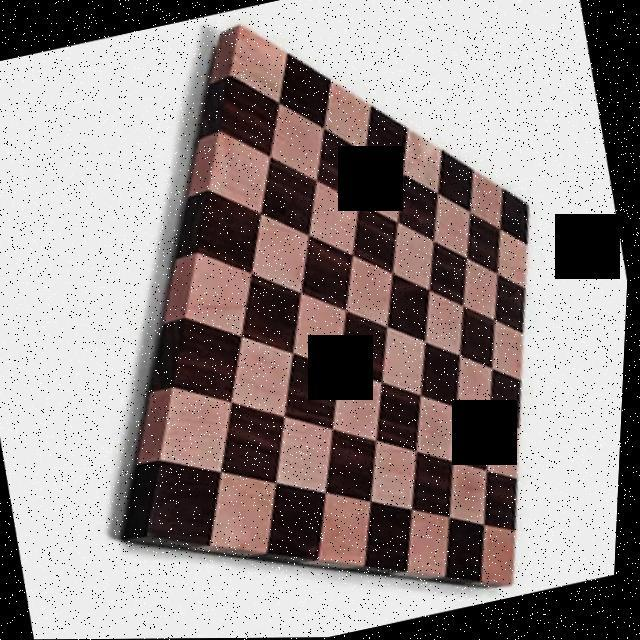chess-table-corners: (118, 494, 188, 564), (208, 13, 274, 68), (498, 180, 545, 238), (482, 551, 534, 599)
